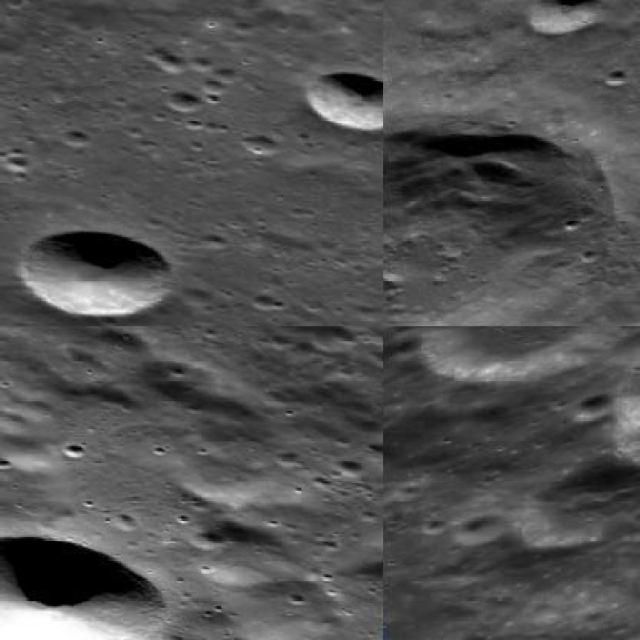crater: (383, 118, 614, 324), (0, 535, 175, 638), (17, 231, 172, 317), (428, 326, 638, 383), (300, 72, 382, 132), (526, 0, 601, 35)
